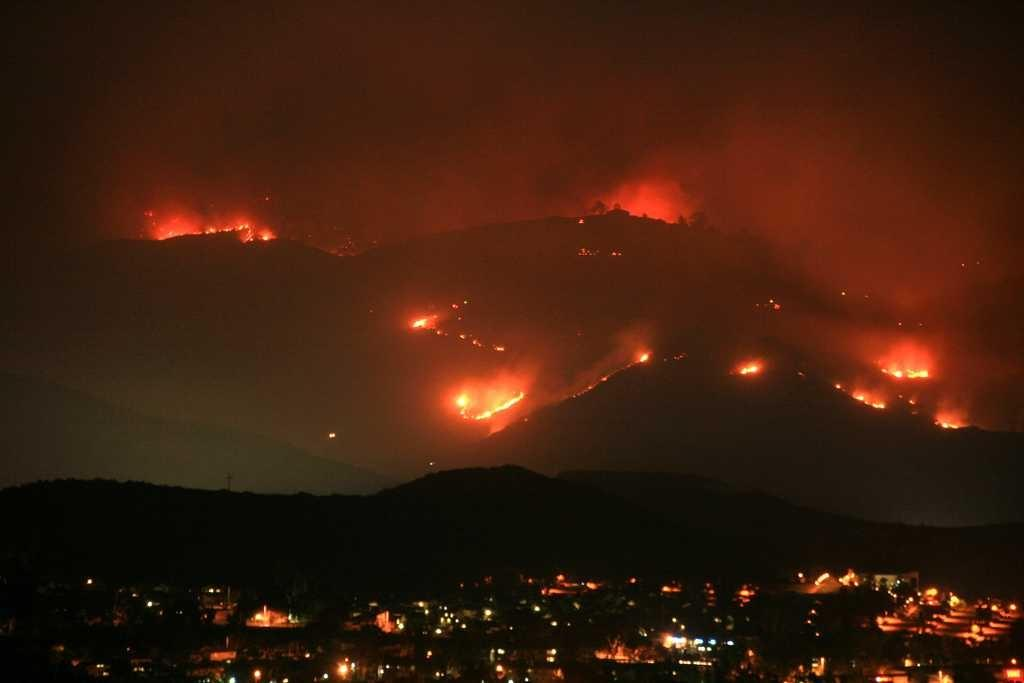fire: (413, 373, 532, 415), (152, 215, 277, 242), (881, 350, 942, 384), (402, 307, 448, 338), (932, 407, 980, 436), (846, 394, 891, 413), (733, 359, 766, 381)
